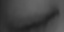LeftEyeFatigue: (3, 4, 62, 32)
